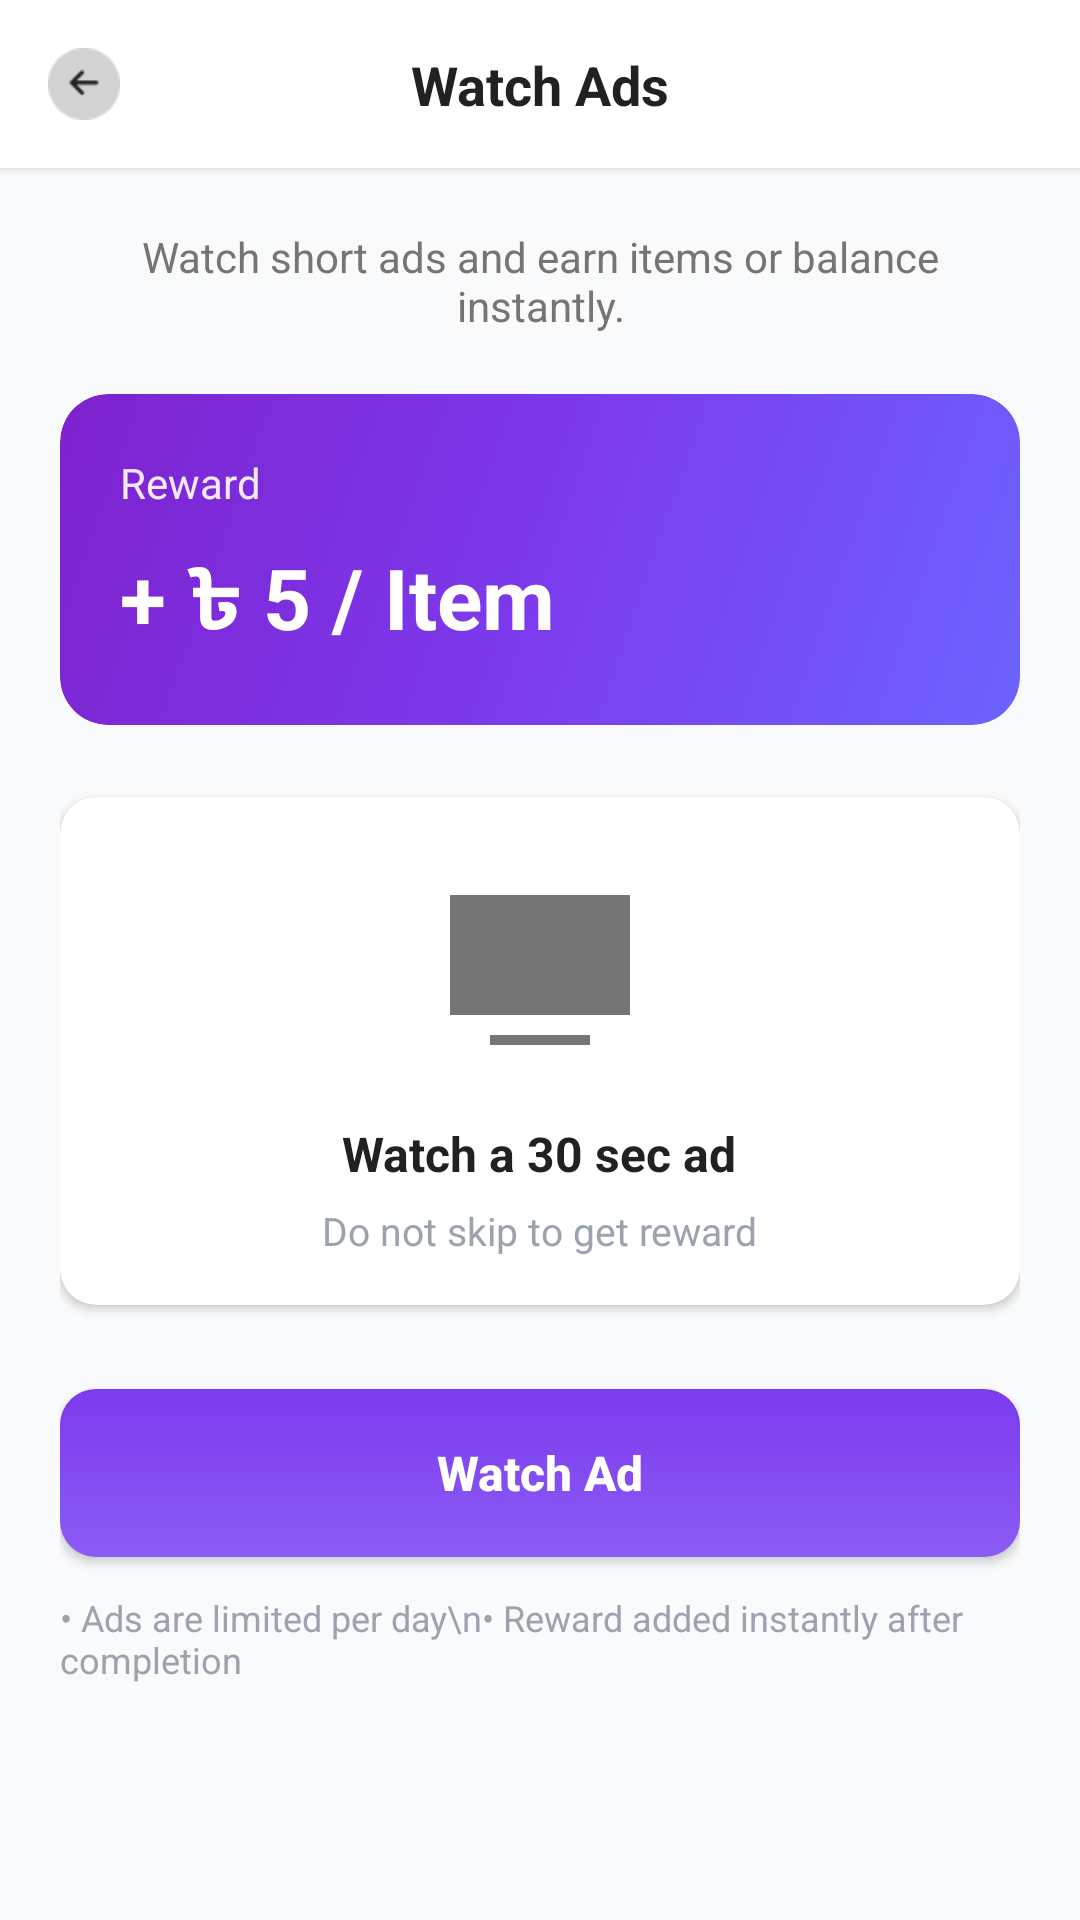

Point at icon controls on the screen. Image size 1080px×1920px, points as (x=x, y=y).
back: (x=84, y=84)
